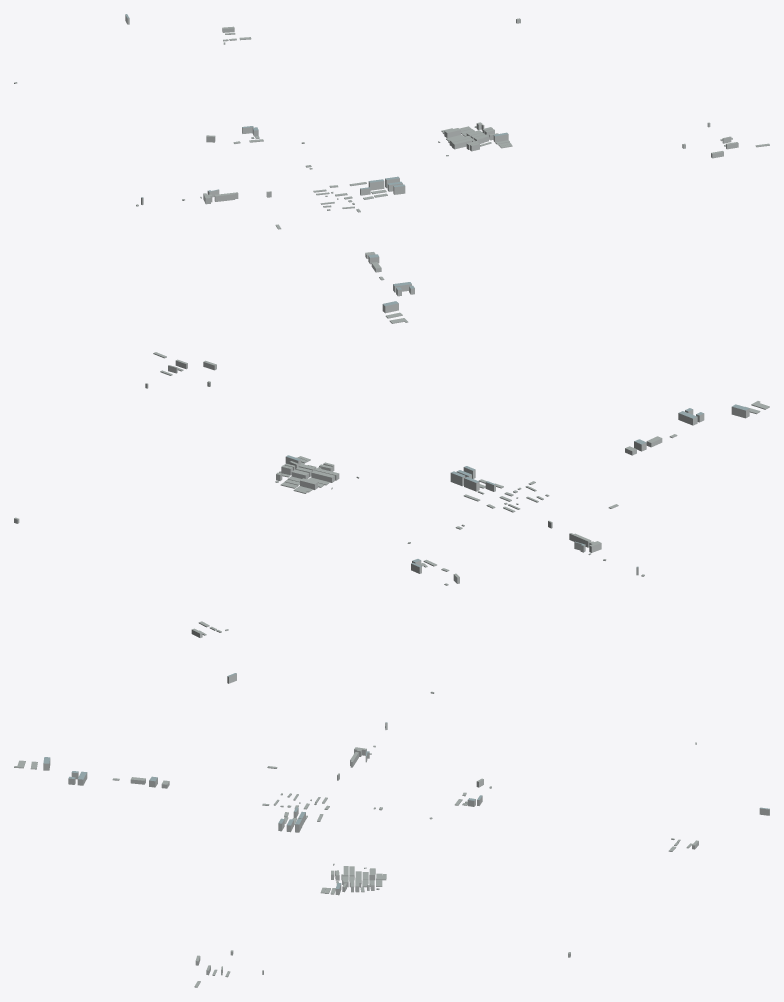
Rendered from far.glb.
3 views of the same model, one above another, from view 1: azimuth 30°, elevation 25°; view 2: azimuth 150°, elevation 25°; view 3: azimuth 270°, elevation 25° (orthographic). The views are drawn at different scales.
Bounding box in the file's own units: 1707 × 25.1 × 2090.
